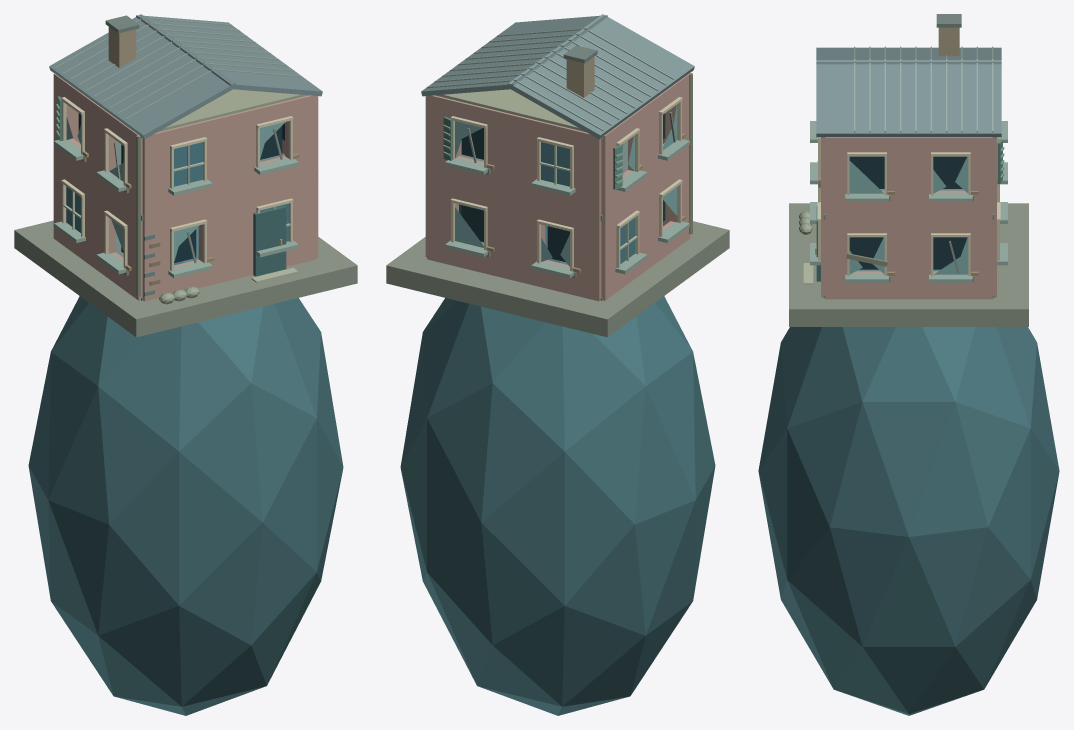
Rendered from house_09.glb.
3 views of the same model, side by side, from view 1: azimuth 30°, elevation 25°; view 2: azimuth 150°, elevation 25°; view 3: azimuth 270°, elevation 25° (orthographic).
Parts seen in each view (by area): view 1: house_09; view 2: house_09; view 3: house_09.
Boxes of the visible parts, x1,y1,x2,y2 form: house_09: (14, 14, 357, 715); house_09: (386, 14, 729, 715); house_09: (758, 14, 1059, 715).
Size of the model in its own units: 11.2 by 26.76 by 10.8.
